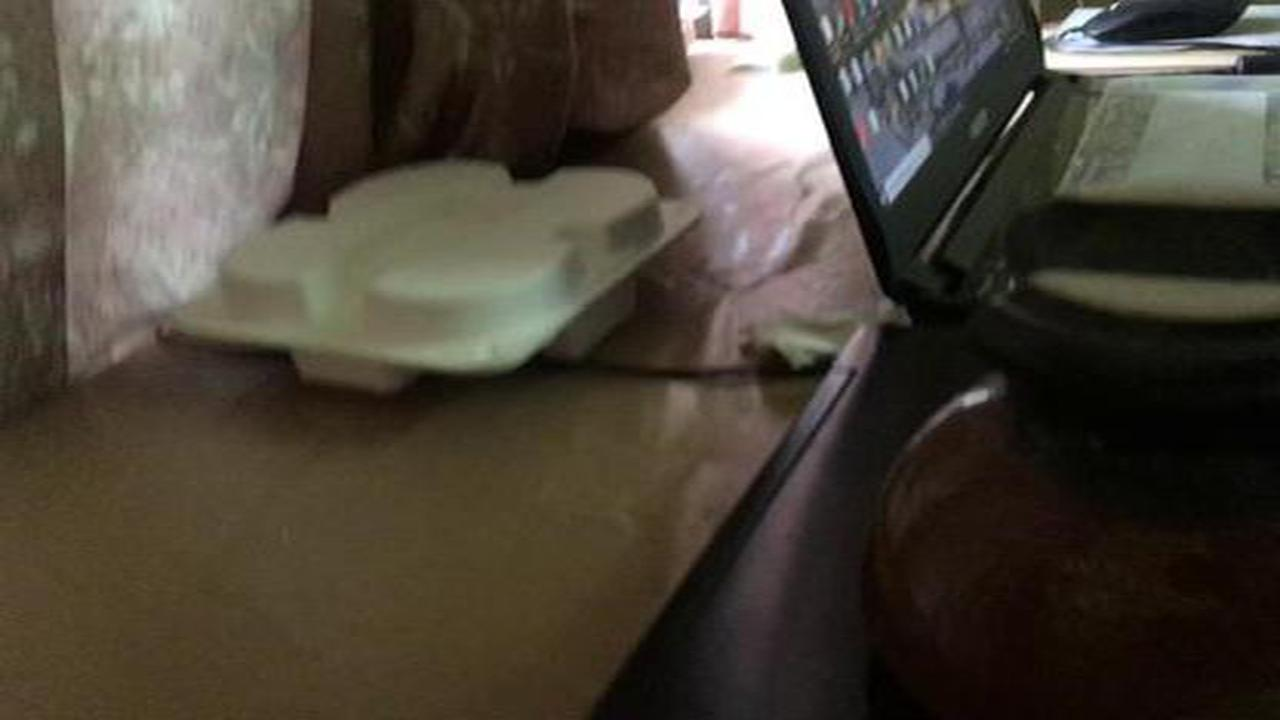insulator_pin: (816, 168, 1280, 715)
